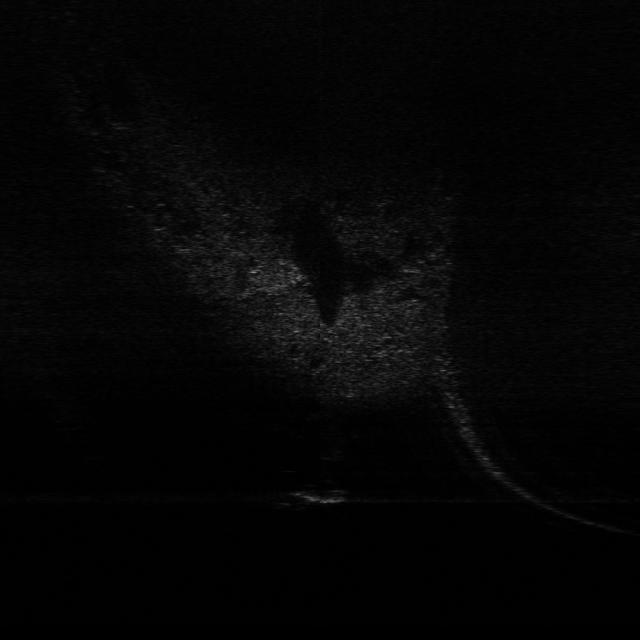cube: (278, 485, 353, 508)
